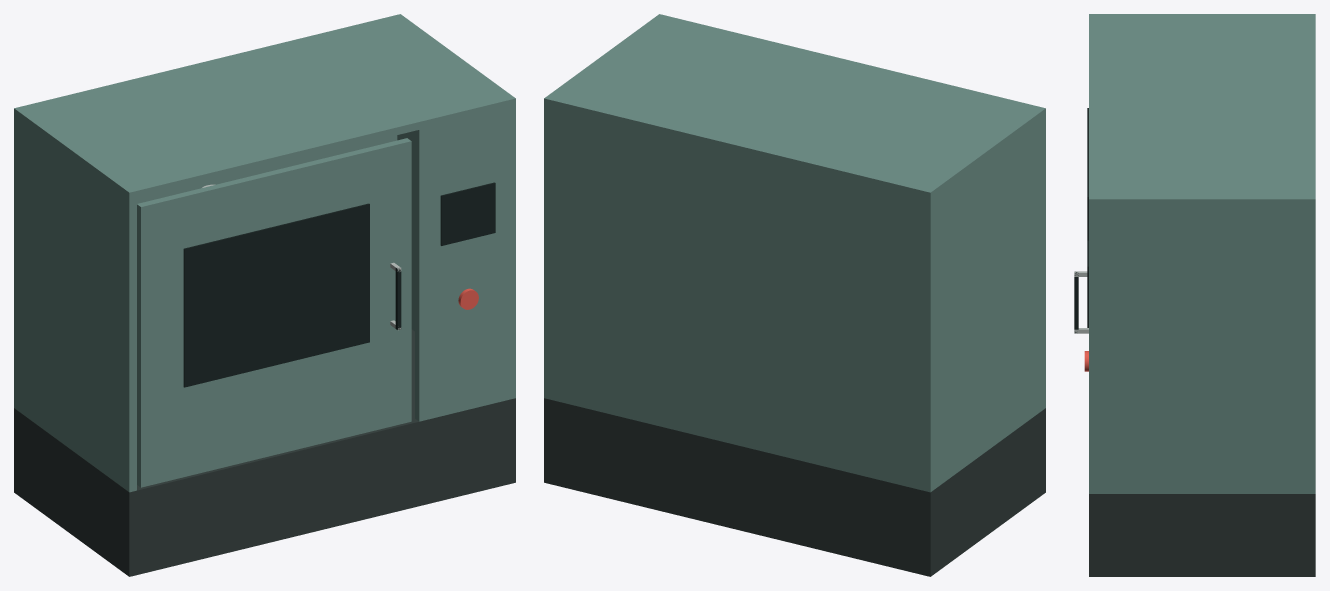
File: machine-enclosure.glb
3 renders of one model, left to right at view 1: azimuth 30°, elevation 25°; view 2: azimuth 150°, elevation 25°; view 3: azimuth 270°, elevation 25°, orthographic.
Parts seen in each view (by area): view 1: DoorPanel, Roof, Base, SidePanel-1, FixedFrontPanel, InspectionWindow, BackPanel, Screen, SidePanel1; view 2: BackPanel, Roof, Base, SidePanel-1, SidePanel1; view 3: SidePanel1, Roof, Base, BackPanel, FixedFrontPanel, SidePanel-1.
Boxes of the visible parts, x1,y1,x2,y2 form: DoorPanel: (137,138,411,487); Roof: (15,14,515,199); Base: (14,329,515,576); SidePanel-1: (14,106,136,492); FixedFrontPanel: (415,95,515,421); InspectionWindow: (183,203,369,387); BackPanel: (14,14,404,410); Screen: (440,182,495,245); SidePanel1: (395,15,515,399); BackPanel: (544,96,934,492); Roof: (544,14,1045,200); Base: (544,398,1045,576); SidePanel-1: (923,106,1045,491); SidePanel1: (544,14,665,399); SidePanel1: (1089,195,1315,493); Roof: (1089,14,1315,206); Base: (1089,494,1315,576); BackPanel: (1307,14,1315,493); FixedFrontPanel: (1089,153,1097,493); SidePanel-1: (1089,14,1314,17).
Bounding box in the file's own units: 2 × 1.9 × 1.1.
